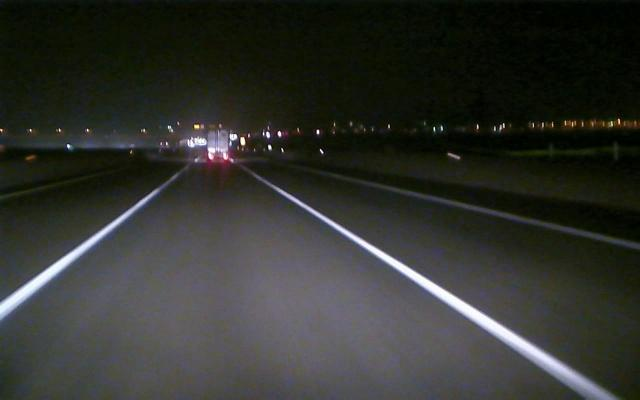lane: (269, 184, 612, 394), (2, 186, 161, 319), (360, 178, 640, 251), (0, 170, 110, 202)
